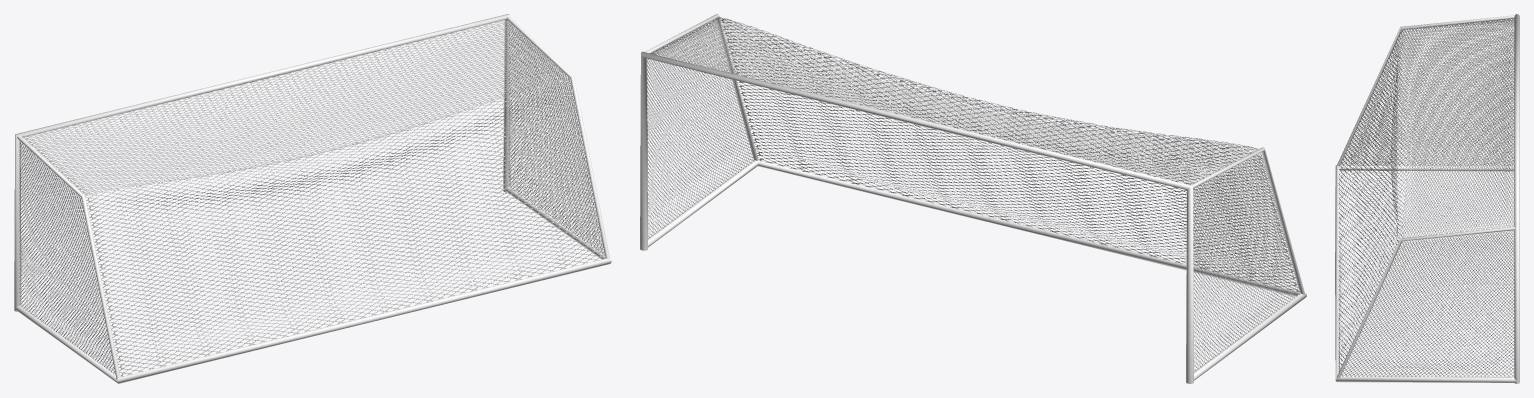
Rendered from goal.glb.
3 renders of one model, left to right at view 1: azimuth 30°, elevation 25°; view 2: azimuth 150°, elevation 25°; view 3: azimuth 270°, elevation 25°, orthographic. The views are drawn at different scales.
Parts seen in each view (by area): view 1: Rectangular Goalpost; view 2: Rectangular Goalpost; view 3: Rectangular Goalpost.
Part boxes in pixels (x1,y1,x2,y2): Rectangular Goalpost: (14,14,611,383); Rectangular Goalpost: (640,14,1306,383); Rectangular Goalpost: (1335,14,1519,383).
Size of the model in its own units: 7.35 by 2.49 by 2.68.
Materials: 1 (1 with a texture image).
